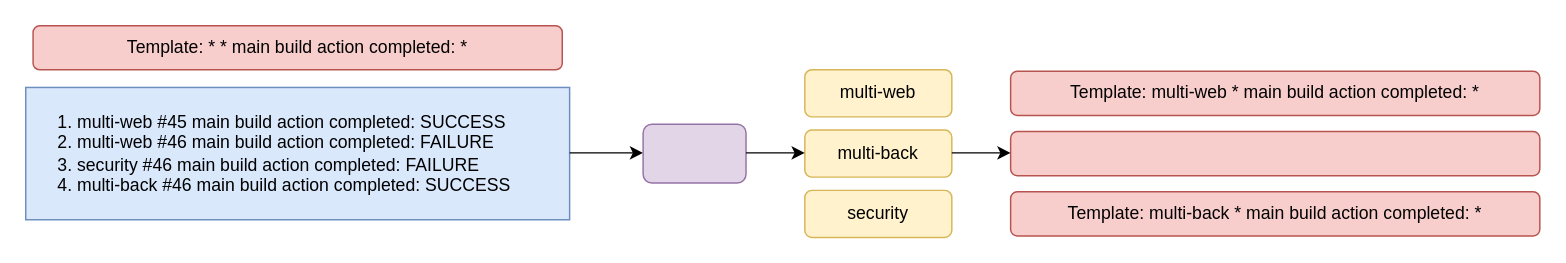
The diagram is 1566 pixels wide and 263 high, and some of its shapes have lost their labels. Here are the shapes that lost their labels. From the top down, the centre of each, then its label:
At [694,153]: "Drain".
At [1274,153]: "Template: security * main build action completed: *".
